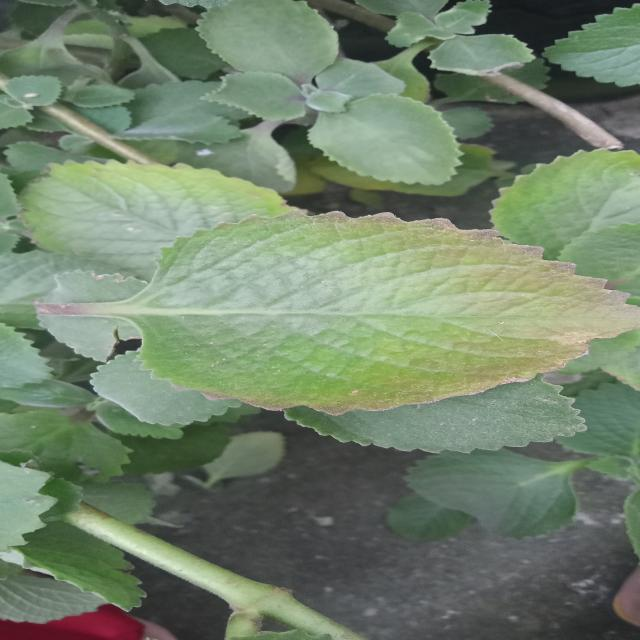Oregano: (97, 188, 640, 434)
